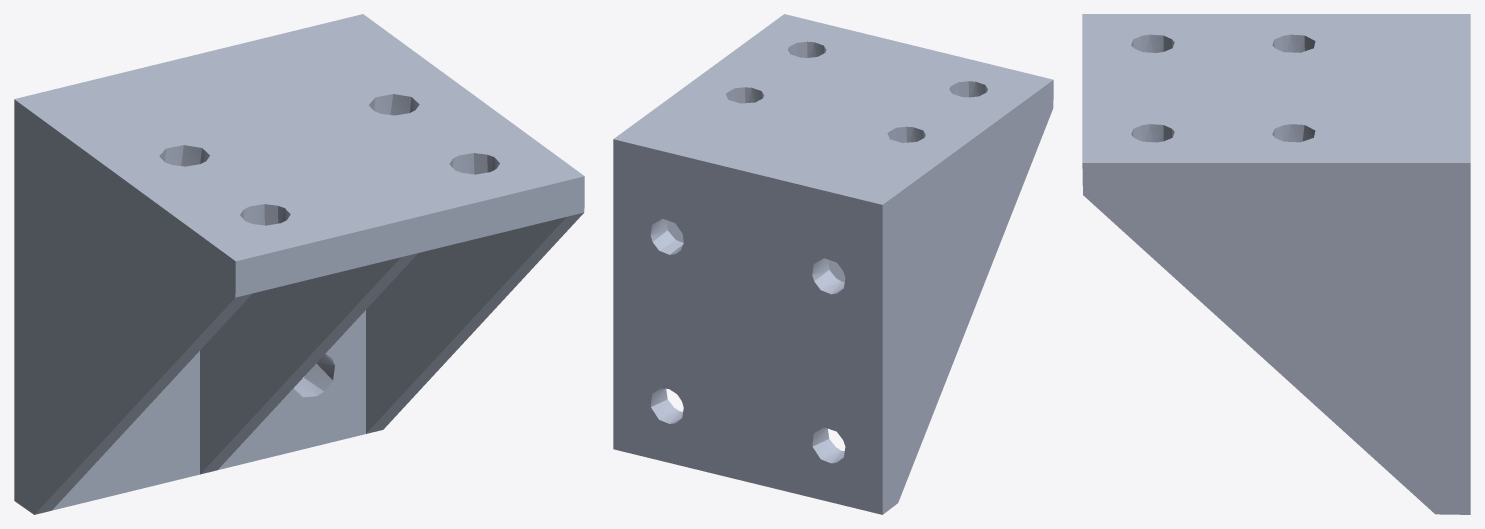
File: body_link0_01.obj
3 views of the same model, side by side, from view 1: azimuth 30°, elevation 25°; view 2: azimuth 150°, elevation 25°; view 3: azimuth 270°, elevation 25° (orthographic). The views are drawn at different scales.
Parts seen in each view (by area): view 1: body_link0_01; view 2: body_link0_01; view 3: body_link0_01.
Boxes of the visible parts, x1,y1,x2,y2 form: body_link0_01: (14, 14, 584, 514); body_link0_01: (613, 14, 1053, 514); body_link0_01: (1082, 14, 1470, 514).
Size of the model in its own units: 0.05 by 0.055 by 0.055.
